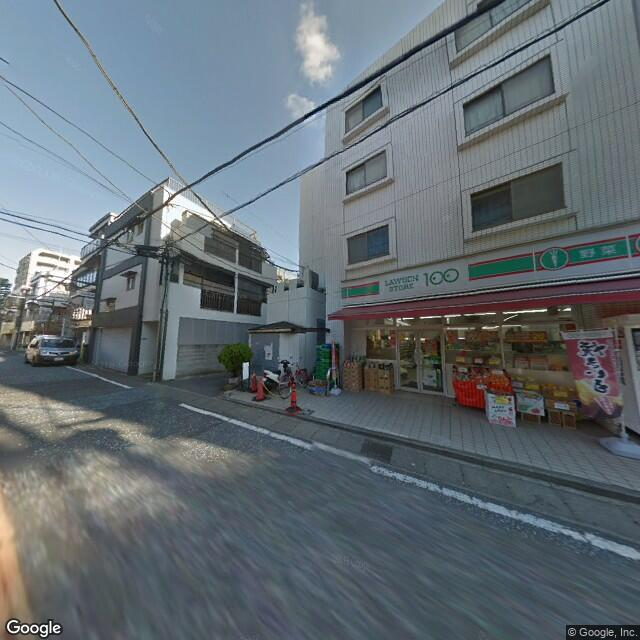lawson: (340, 222, 639, 306)
